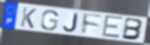B: (121, 17, 145, 41)
E: (101, 14, 125, 40)
F: (81, 12, 103, 35)
G: (40, 10, 60, 32)
J: (63, 13, 79, 33)
K: (19, 6, 37, 30)
